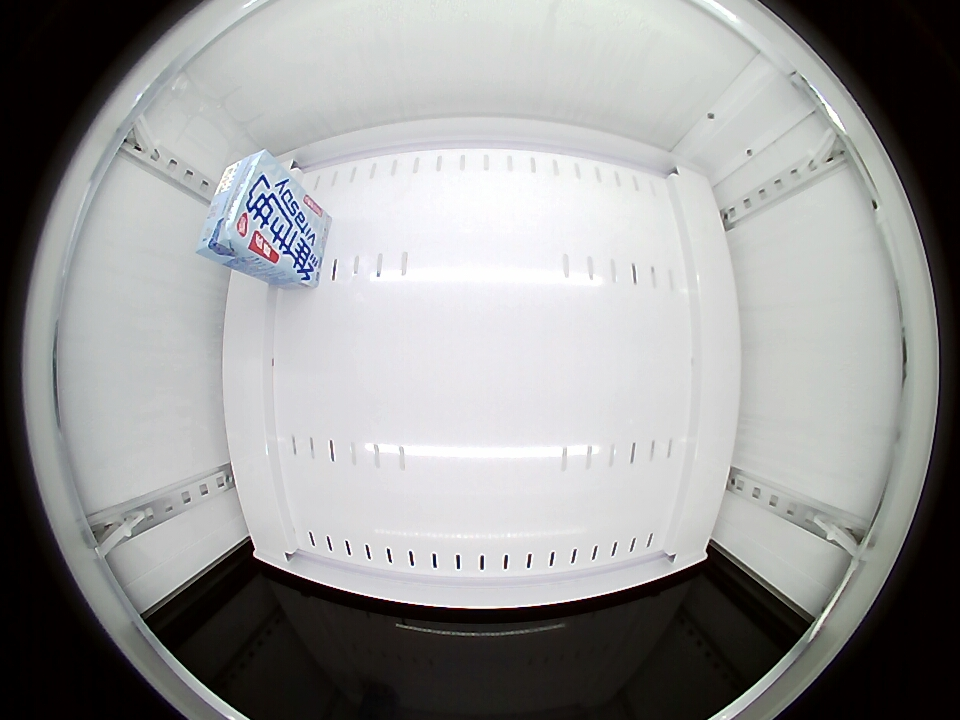weitanaiditang: (197, 149, 293, 267)
